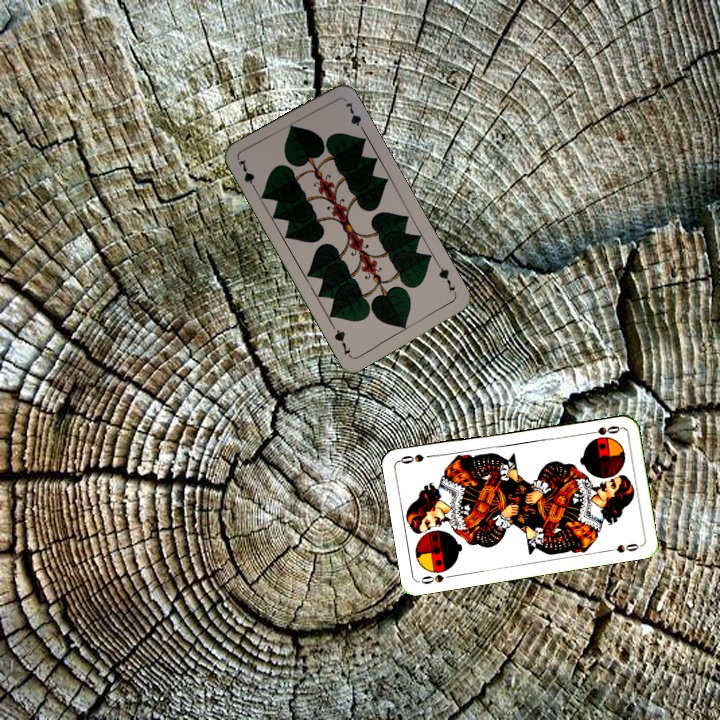G7: (234, 155, 260, 194), (434, 260, 459, 298)
SO: (415, 570, 456, 587), (582, 422, 623, 438)
